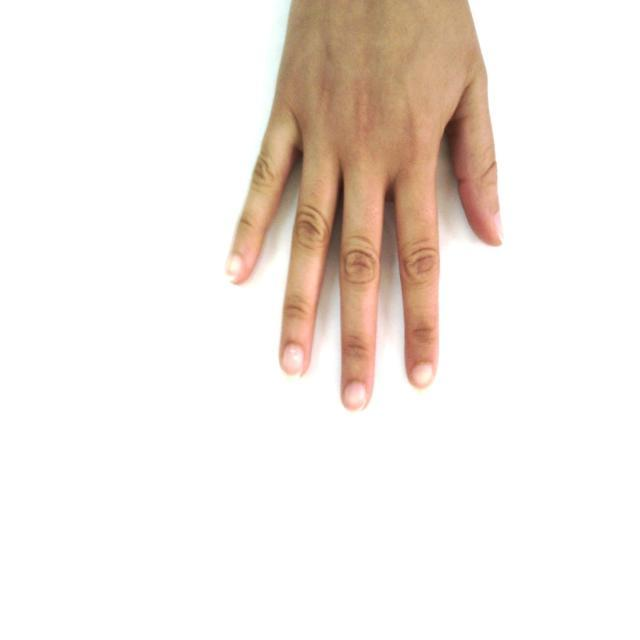Fingernail: (282, 345, 304, 375), (344, 382, 365, 410), (223, 256, 241, 280), (414, 363, 433, 384), (495, 214, 502, 241)
